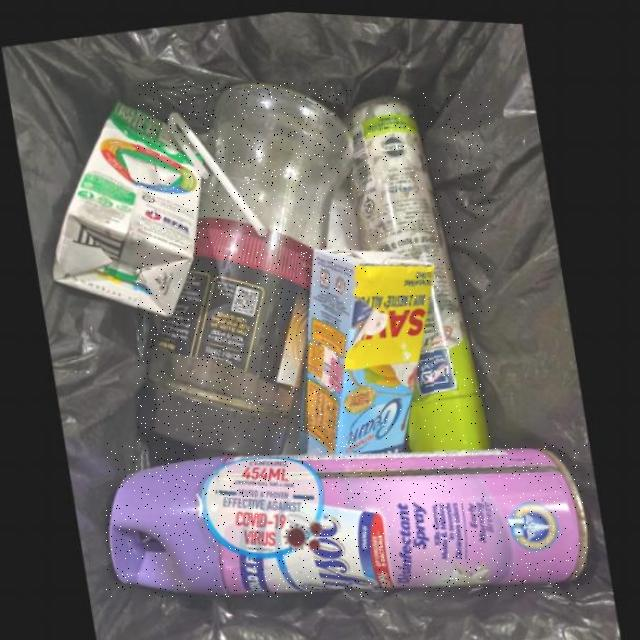metal: (107, 443, 589, 596), (342, 93, 490, 449)
paper: (50, 101, 199, 317), (297, 247, 434, 453)
plastic: (137, 81, 353, 454)
